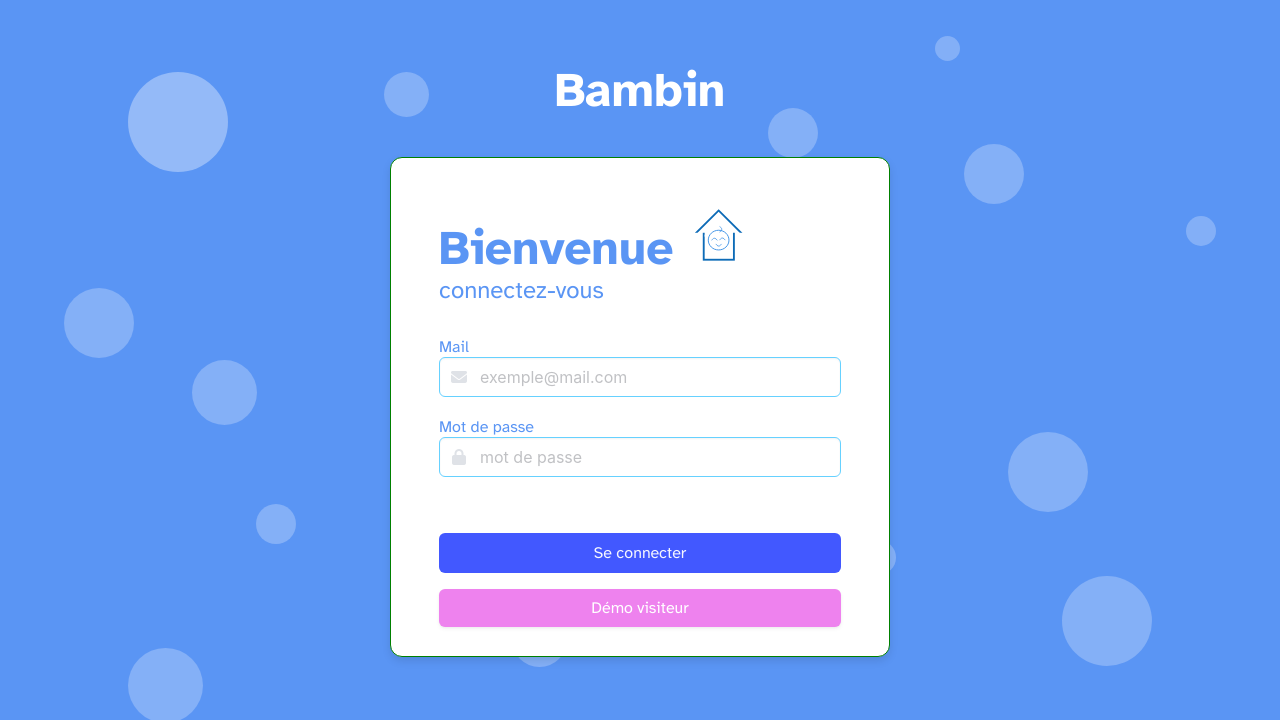
Test: login.vue › affiche un message d'erreur si les identifiants sont invalides
Type "test@test.com" into the field with placeholder "exemple@mail.com".
click(640, 377); type("test@test.com")  # box [439,357,841,397]
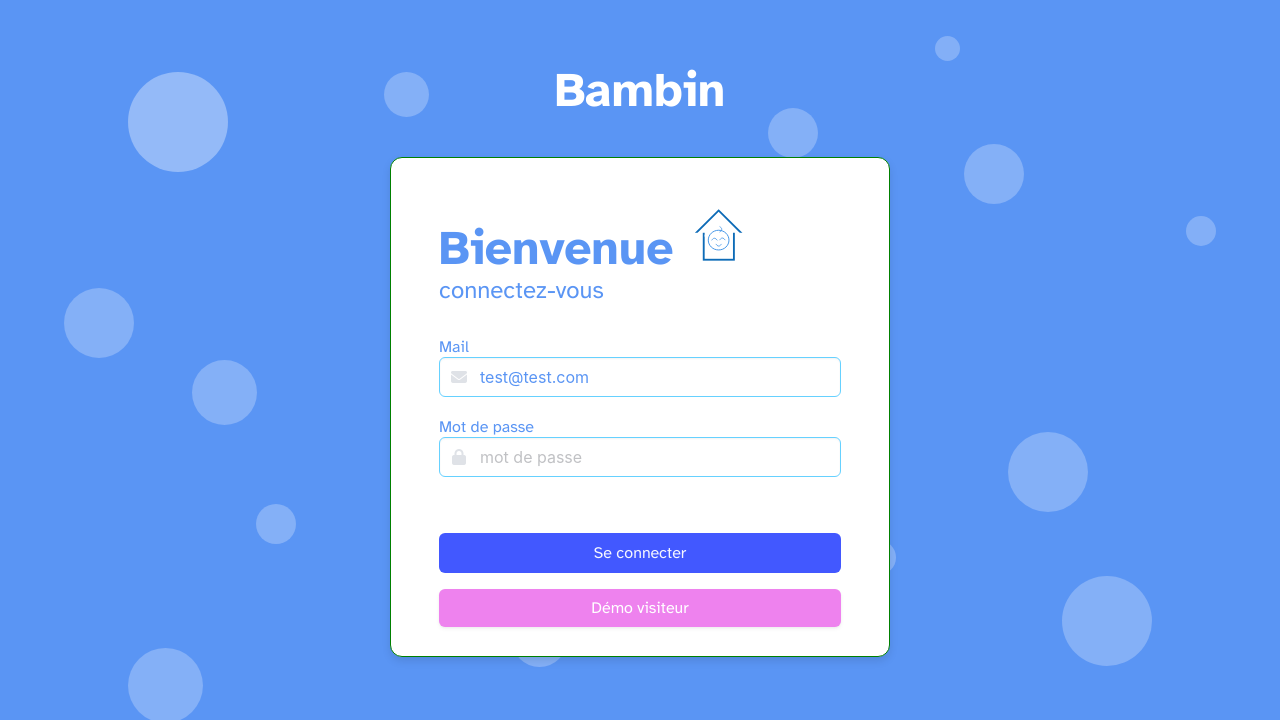
Type "wrong" into the password field with placeholder "mot de passe".
click(640, 457); type("wrong")  # box [439,437,841,477]
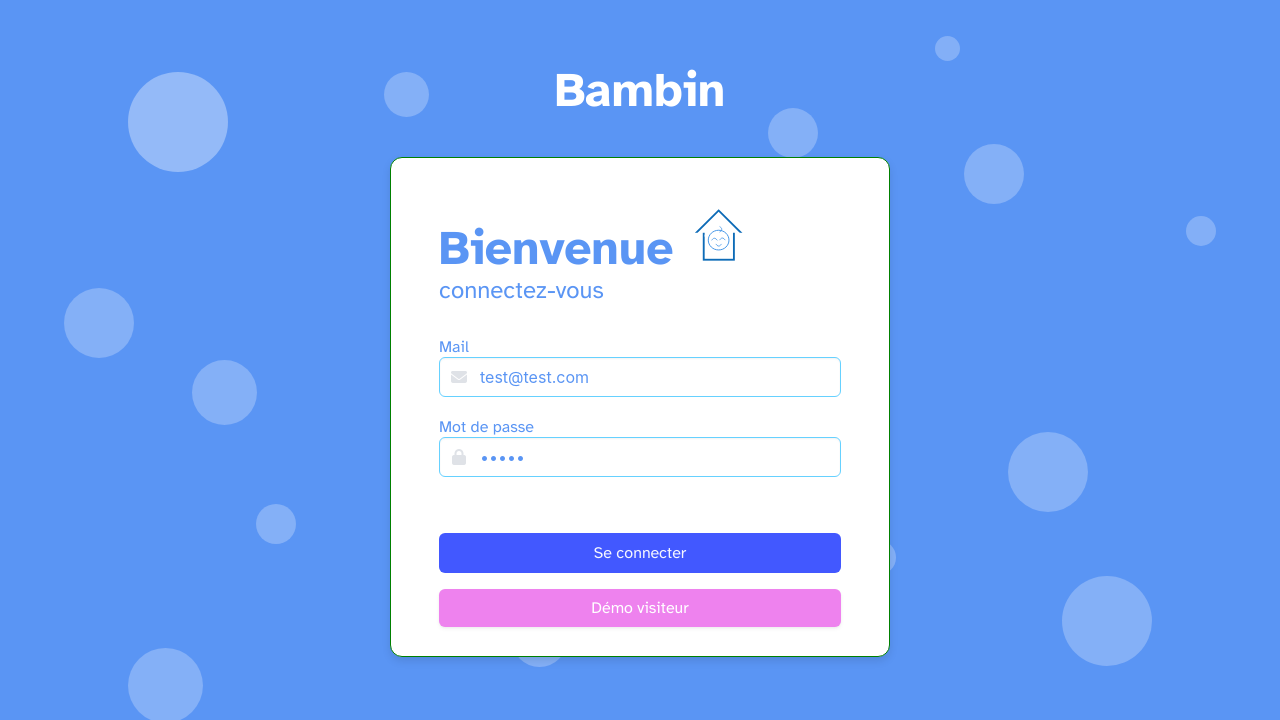
Click the button "Se connecter".
click(640, 553)  # box [439,533,841,573]
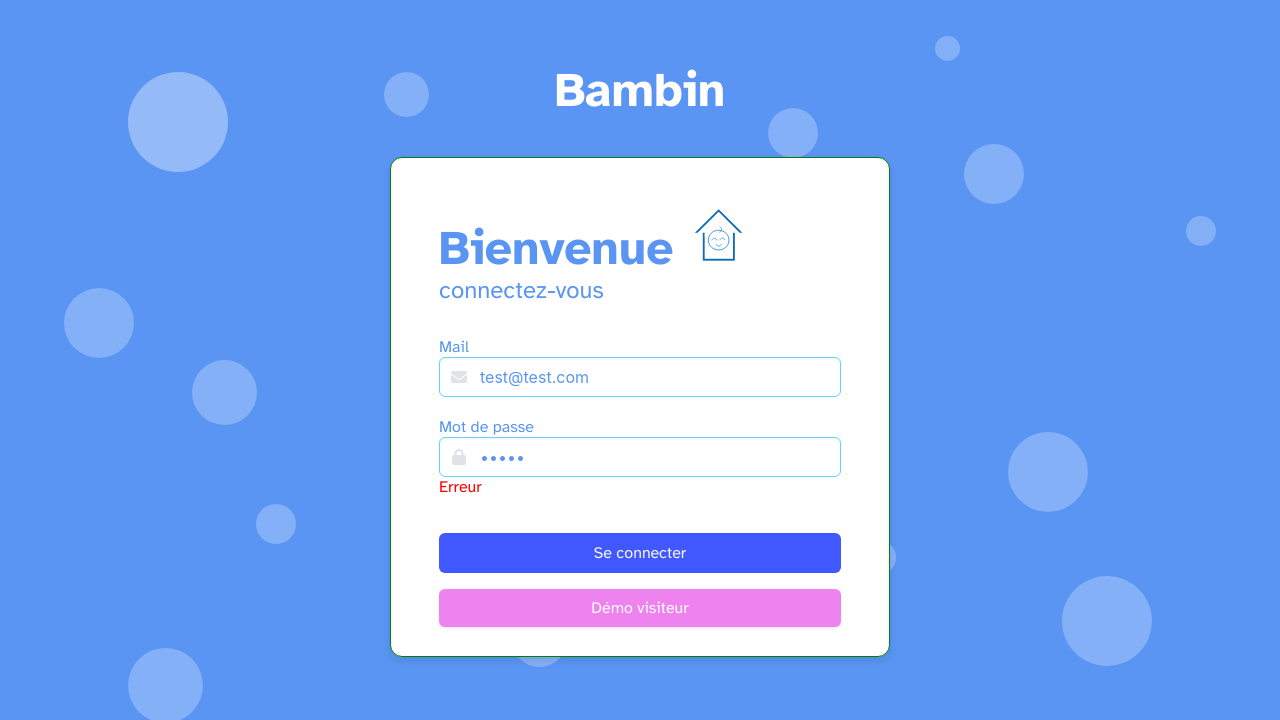
Now the text "Erreur" is shown, box [439,477,482,497]
